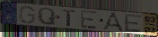A: (102, 12, 127, 33)
E: (80, 9, 100, 30), (124, 14, 144, 34)
G: (18, 5, 37, 24)
Q: (37, 7, 58, 27)
T: (62, 9, 77, 27)
